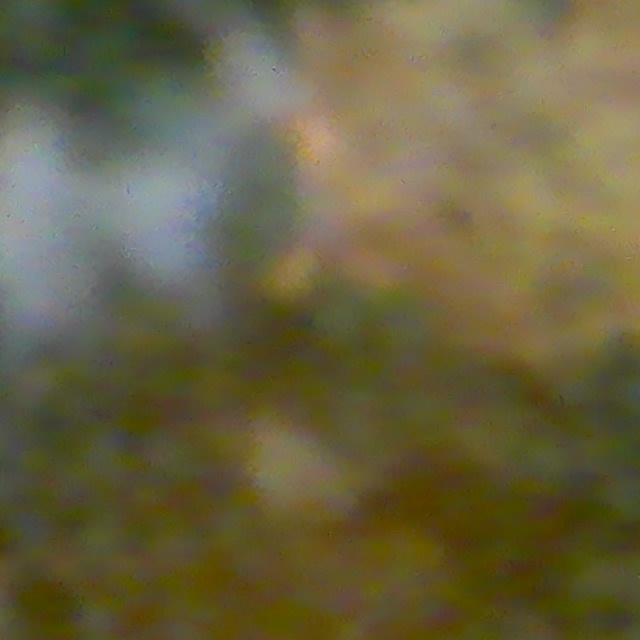SeaGrape: (0, 187, 119, 329), (118, 154, 231, 287), (214, 25, 307, 138), (0, 96, 69, 196)
